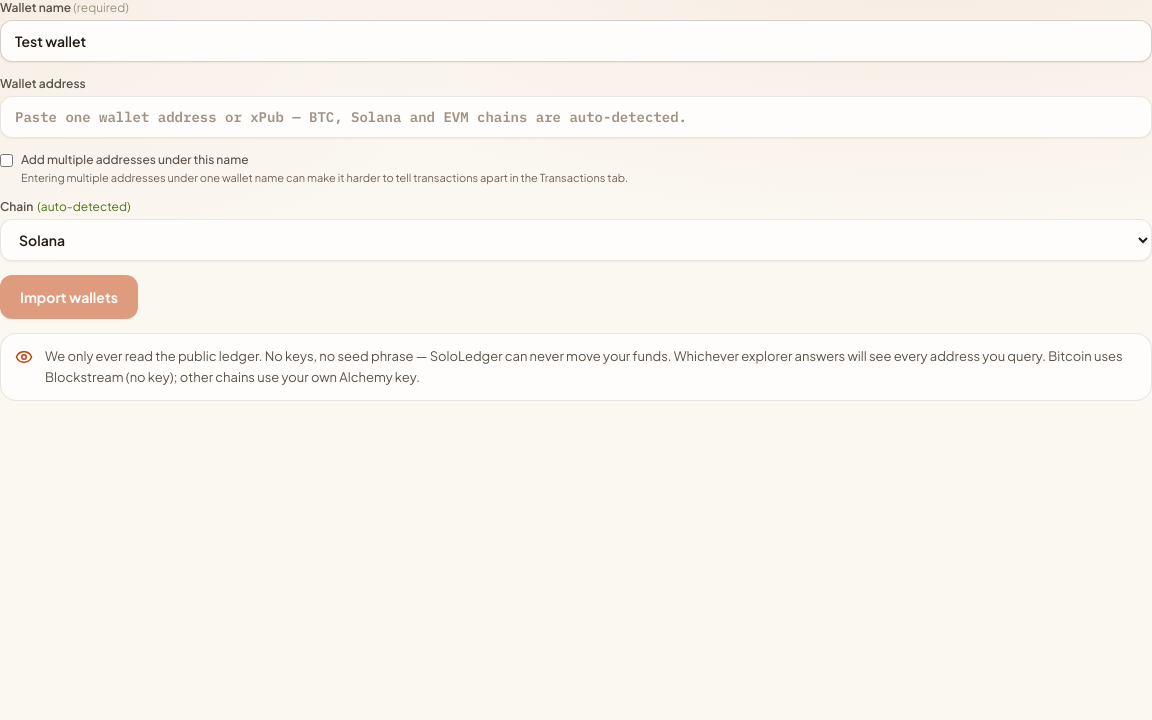
Test case: WalletAddressForm — EVM active-chain detection › runs the sequential orchestrator over the selected chains and renders the per-chain summary
This screenshot has width=1152, height=720.
Replace the text in the field labelled "Wallet address" with "0xaaaaaaaaaaaaaaaaaaaaaaaaaaaaaaaaaaaaaaaa" at (576, 117), box [0, 96, 1151, 138]
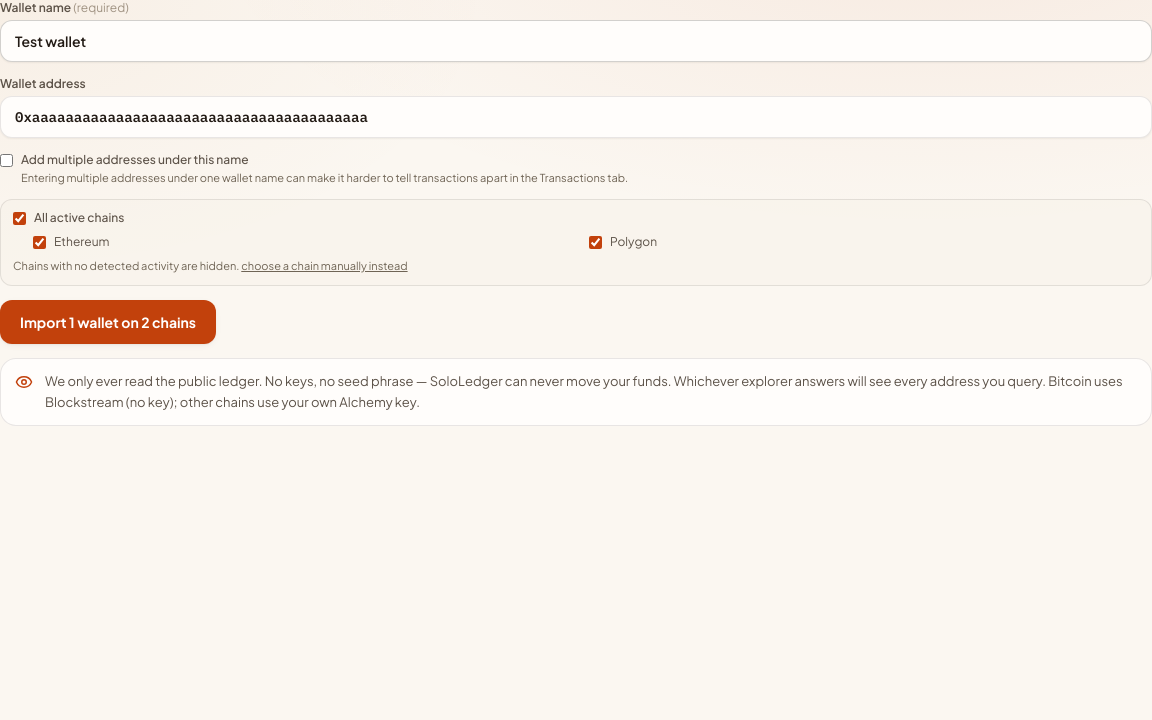
Expected: the element with test id "chain-picker" is shown, [0, 199, 1151, 286]
Click the button "Import 1 wallet on 2 chains" at (108, 322), box [0, 300, 216, 344]
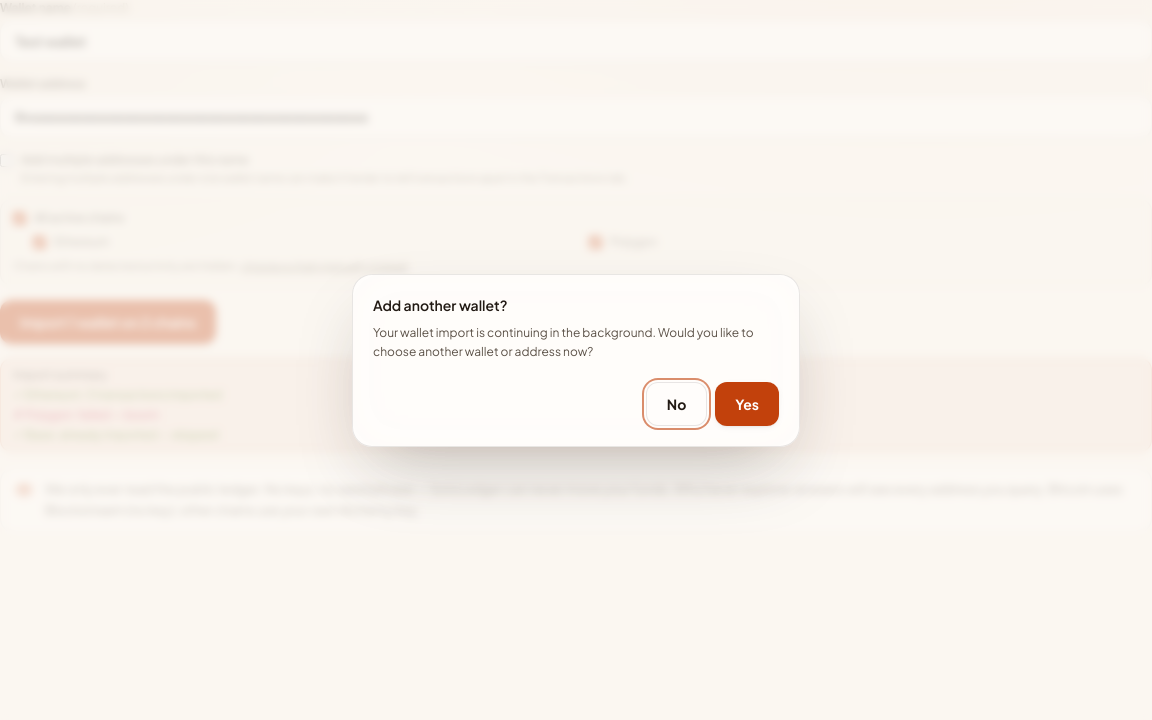
Expected: the element with test id "chain-summary" shows "Ethereum: 3 transactions imported", [0, 358, 1151, 452]
Expected: the element with test id "chain-summary" shows "Polygon: failed — boom", [0, 358, 1151, 452]
Expected: the element with test id "chain-summary" shows "Base: already imported — skipped", [0, 358, 1151, 452]
